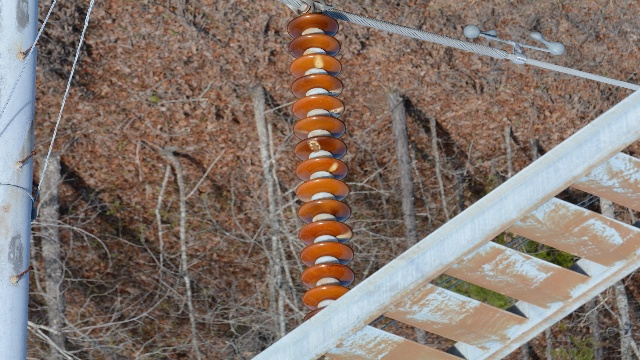insulator_unspecified: (287, 15, 353, 328)
pollution_flashover_local: (307, 138, 322, 153), (327, 105, 345, 117), (338, 228, 352, 243), (312, 52, 324, 68), (330, 88, 344, 97), (328, 161, 338, 172)
